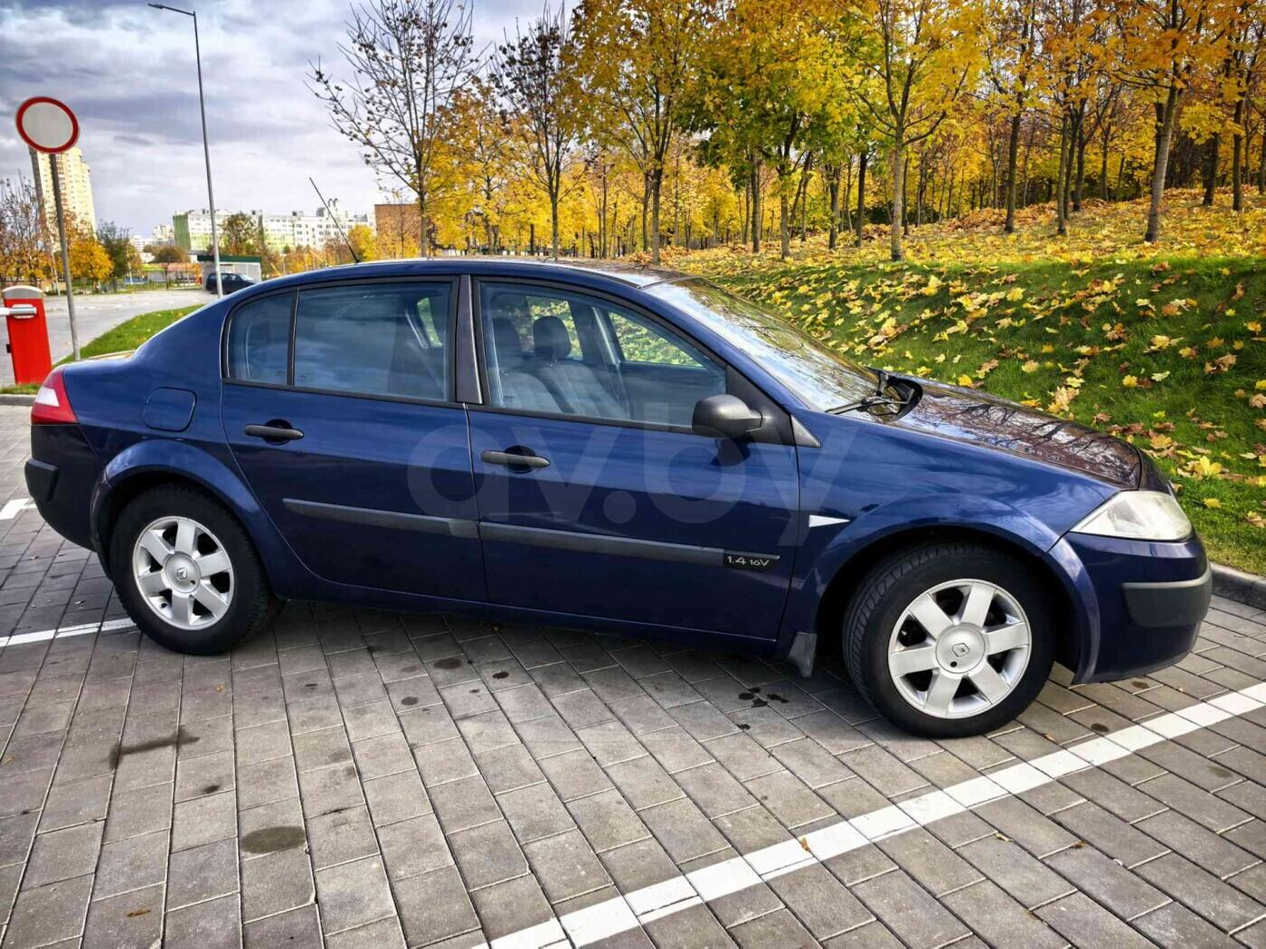Megane_2002-2006: (25, 247, 1208, 745)
